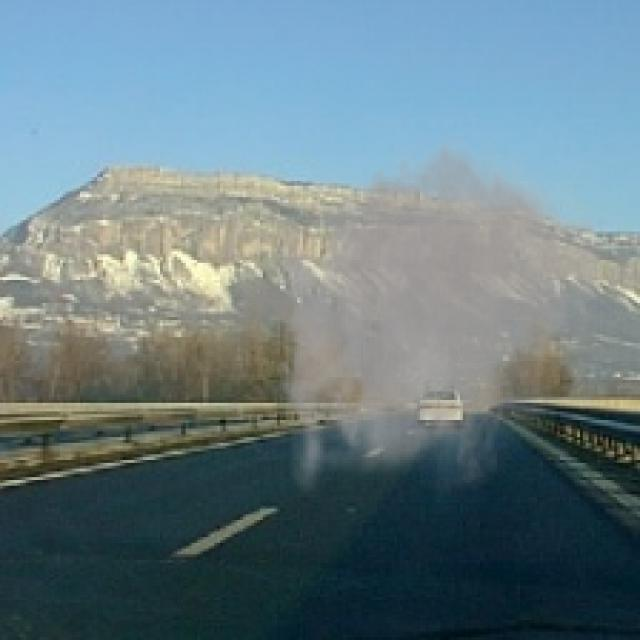Smoke: (263, 123, 612, 506)
